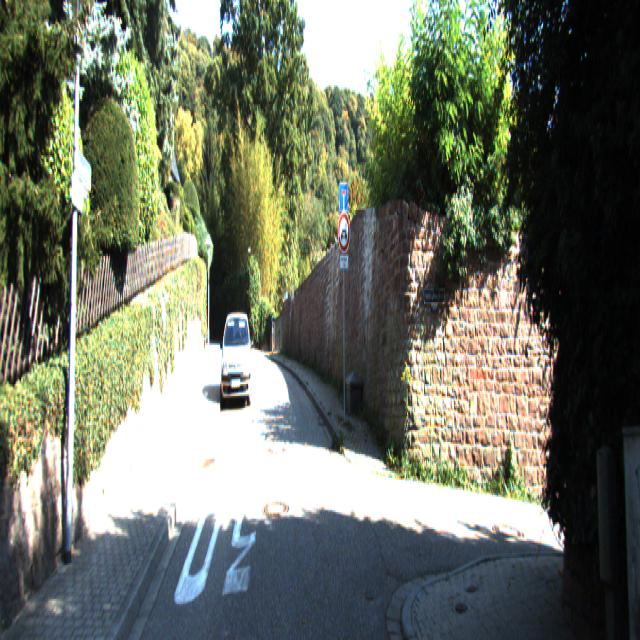Car: (220, 306, 252, 411), (228, 316, 250, 370)
